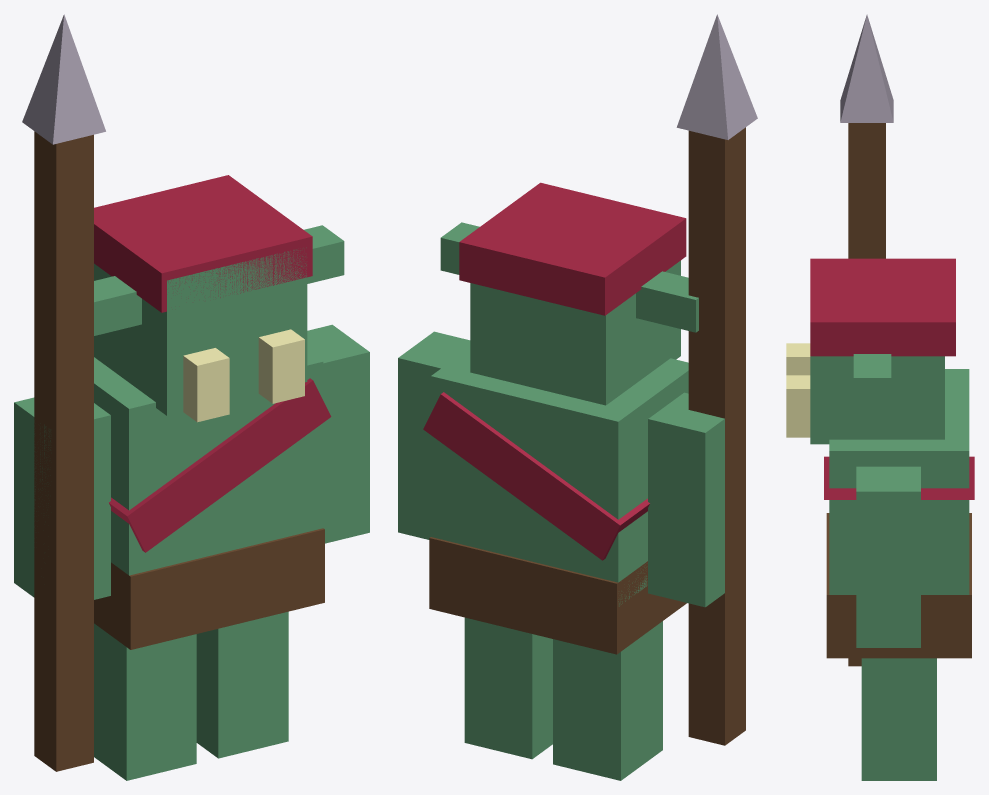
The model's file is thrower.glb.
The picture shows the model from 3 angles, left to right: view 1: azimuth 30°, elevation 25°; view 2: azimuth 150°, elevation 25°; view 3: azimuth 270°, elevation 25°; orthographic projection. The views are drawn at different scales.
Parts seen in each view (by area): view 1: Model; view 2: Model; view 3: Model.
Boxes of the visible parts, x1,y1,x2,y2 form: Model: [14, 14, 369, 780]; Model: [398, 14, 757, 780]; Model: [786, 14, 974, 780].
Bounding box in the file's own units: 0.6045 × 1.38 × 0.35.
